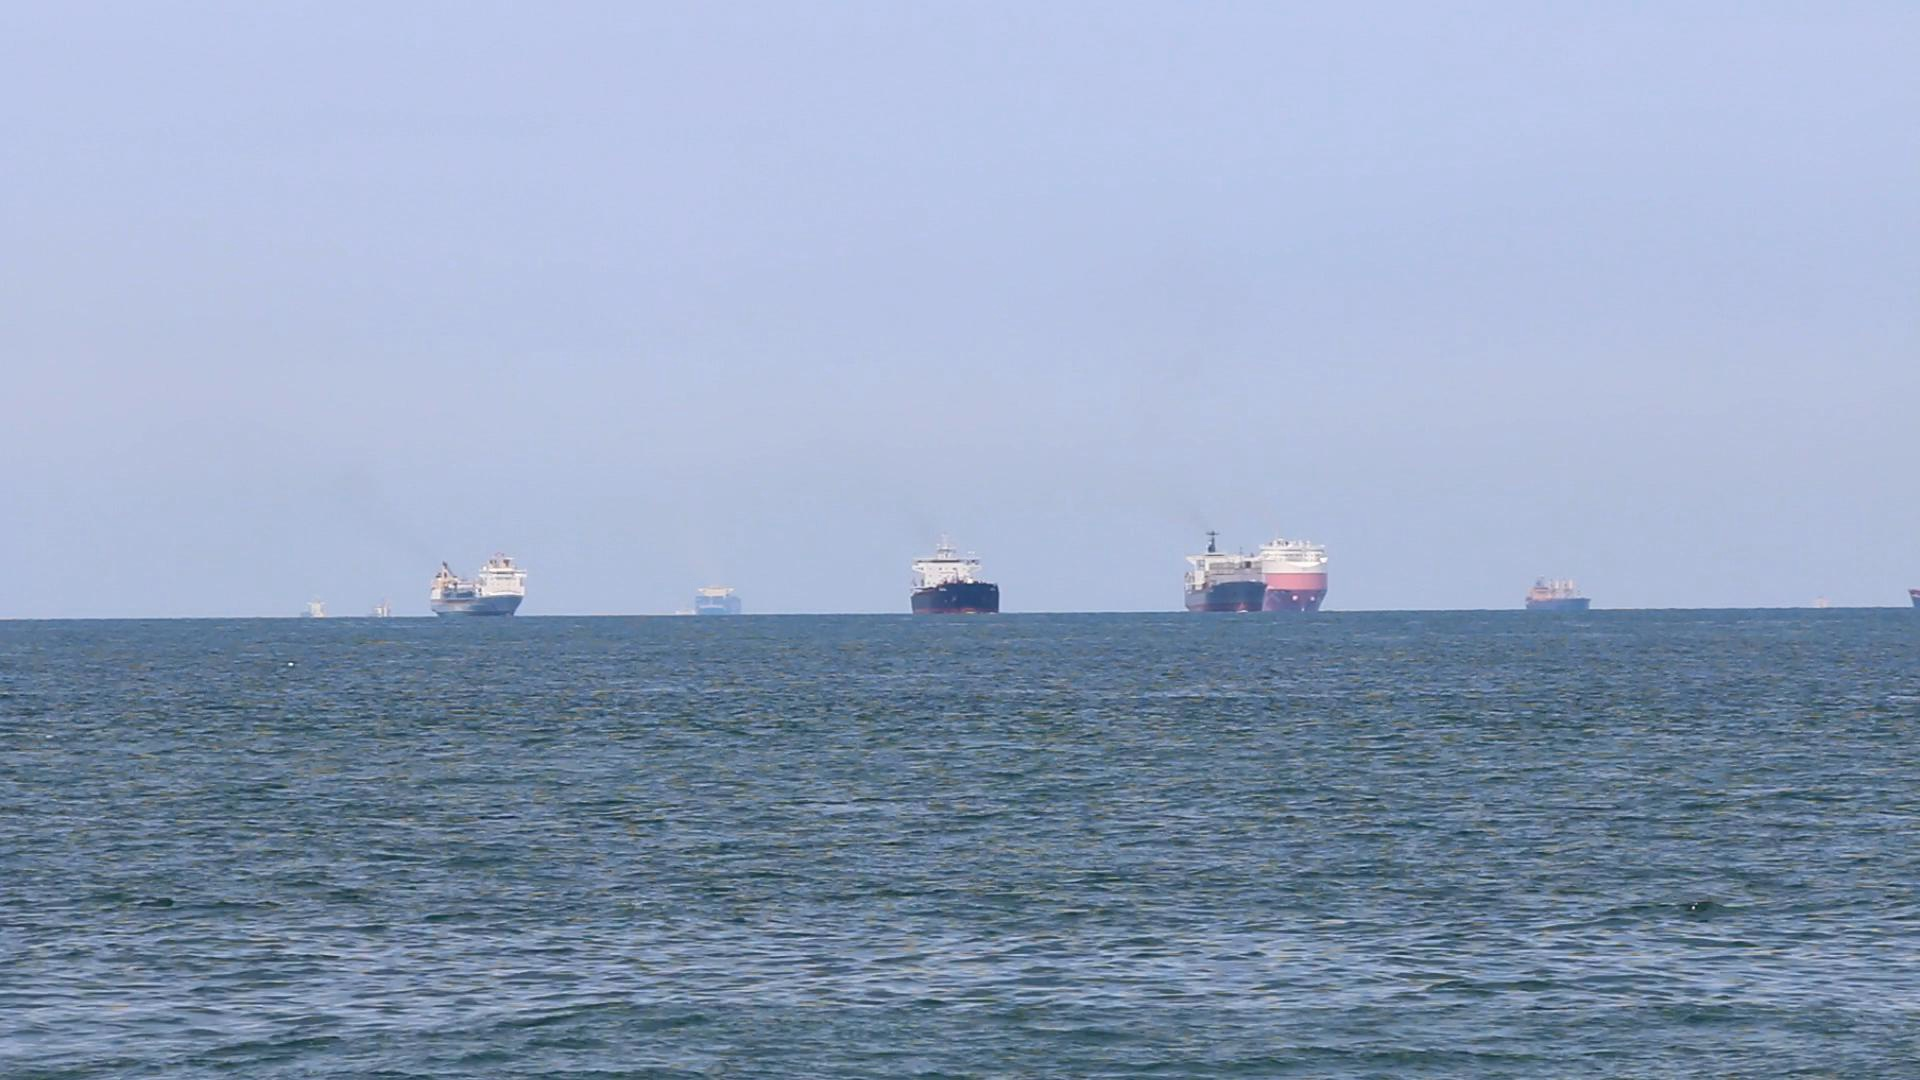Container Ship: (1175, 521, 1266, 617), (906, 529, 1005, 613), (421, 550, 533, 621), (1269, 526, 1328, 618), (1522, 567, 1593, 612), (687, 582, 748, 617), (298, 589, 336, 621), (371, 595, 396, 621)
